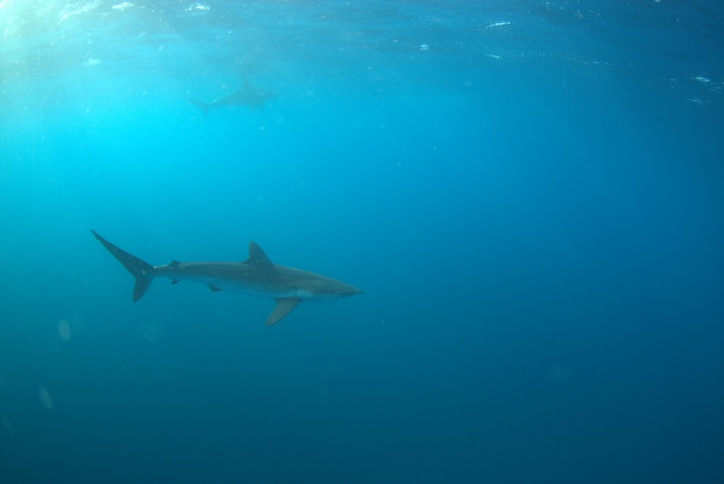Sedoso: (67, 208, 374, 330)
